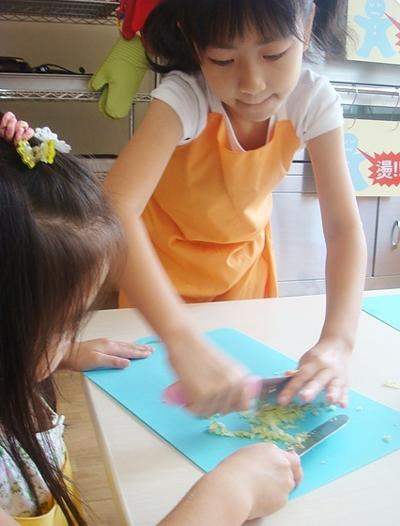person: (101, 1, 369, 418)
